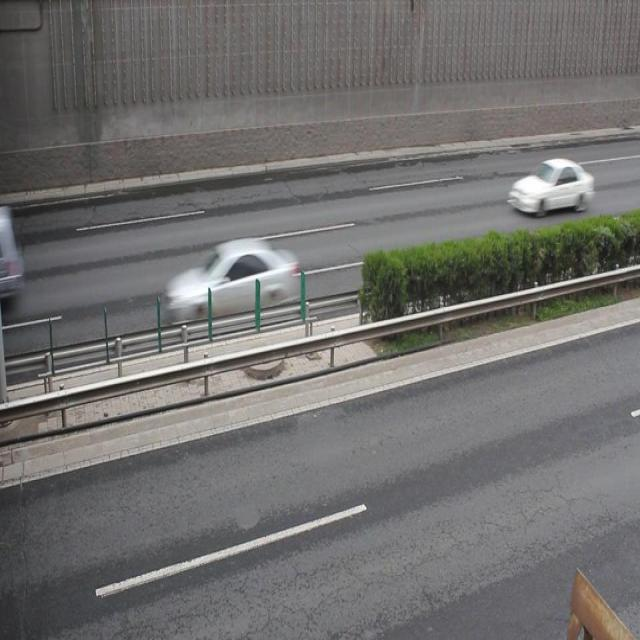car: (163, 236, 299, 323), (507, 156, 591, 216)
